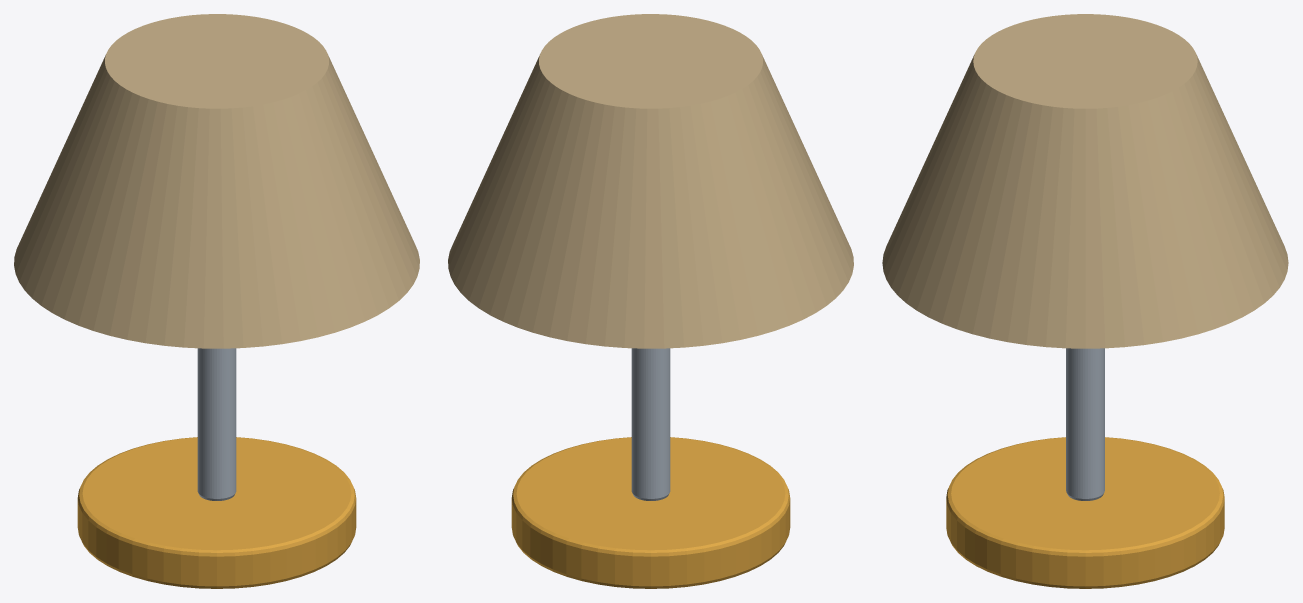
The model's file is lampe-brocante.glb.
3 renders of one model, left to right at view 1: azimuth 30°, elevation 25°; view 2: azimuth 150°, elevation 25°; view 3: azimuth 270°, elevation 25°, orthographic.
Parts seen in each view (by area): view 1: Cone, Socle, Tige; view 2: Cone, Socle, Tige; view 3: Cone, Socle, Tige.
Part boxes in pixels (left/top/right/bottom): Cone: left=14, top=14, right=419, bottom=348; Socle: left=77, top=437, right=356, bottom=588; Tige: left=197, top=348, right=236, bottom=500; Cone: left=448, top=14, right=853, bottom=348; Socle: left=511, top=437, right=790, bottom=588; Tige: left=631, top=348, right=670, bottom=500; Cone: left=882, top=14, right=1288, bottom=348; Socle: left=946, top=437, right=1224, bottom=588; Tige: left=1066, top=348, right=1104, bottom=500.
Size of the model in its own units: 2.1 by 2.68 by 2.1.
